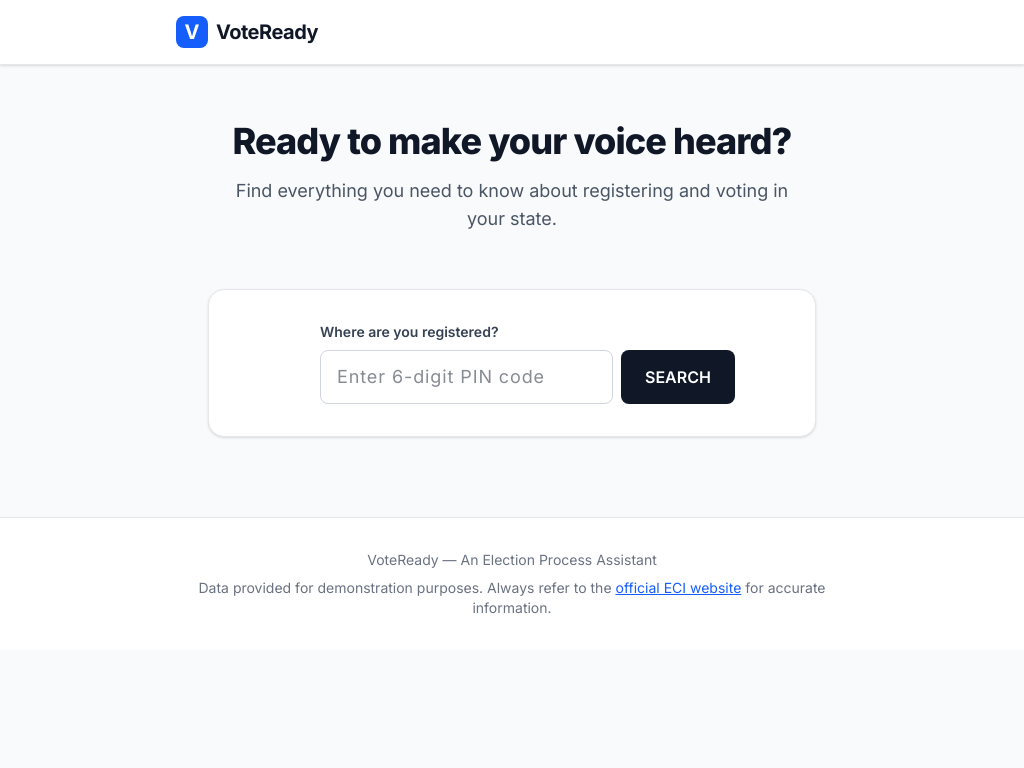
Home page flow › shows active state details after a valid mapped PIN
This screenshot has width=1024, height=768.
In the field labelled "Where are you registered?": (466, 377) top-left (320, 350), bottom-right (613, 404), type "110001"
Wait 300 ms
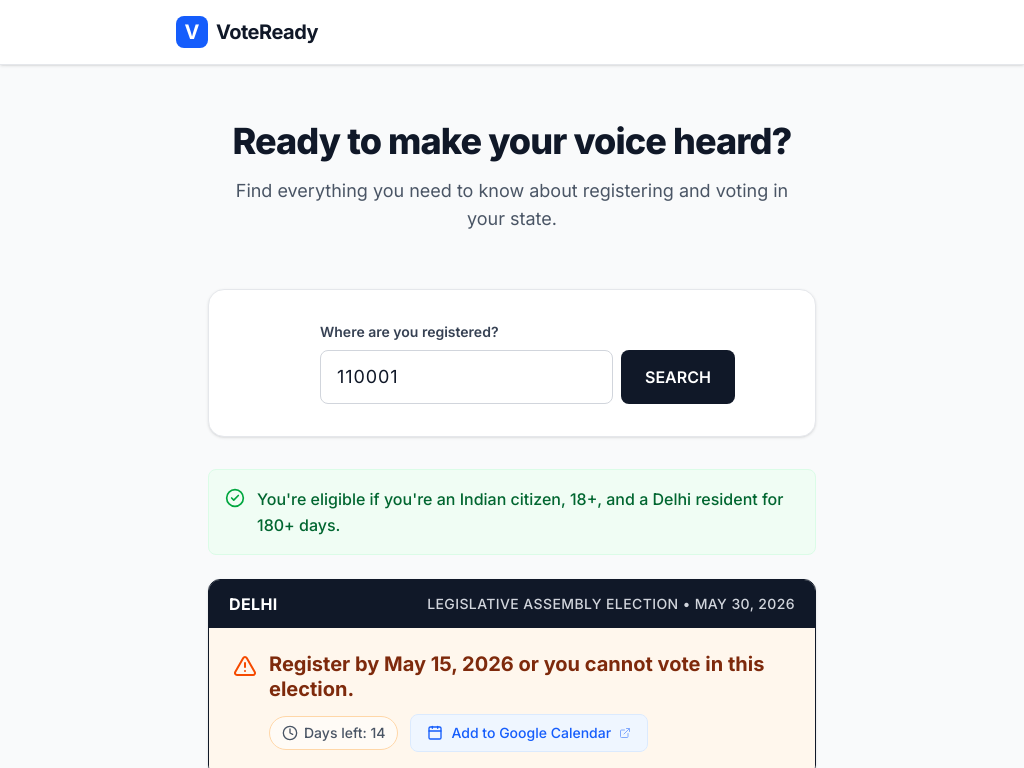
Check: the text "Delhi resident" shows "180+ days", box top-left (257, 486), bottom-right (799, 538)
Check: the heading "Register by May 15, 2026" is shown, box top-left (269, 652), bottom-right (764, 701)
